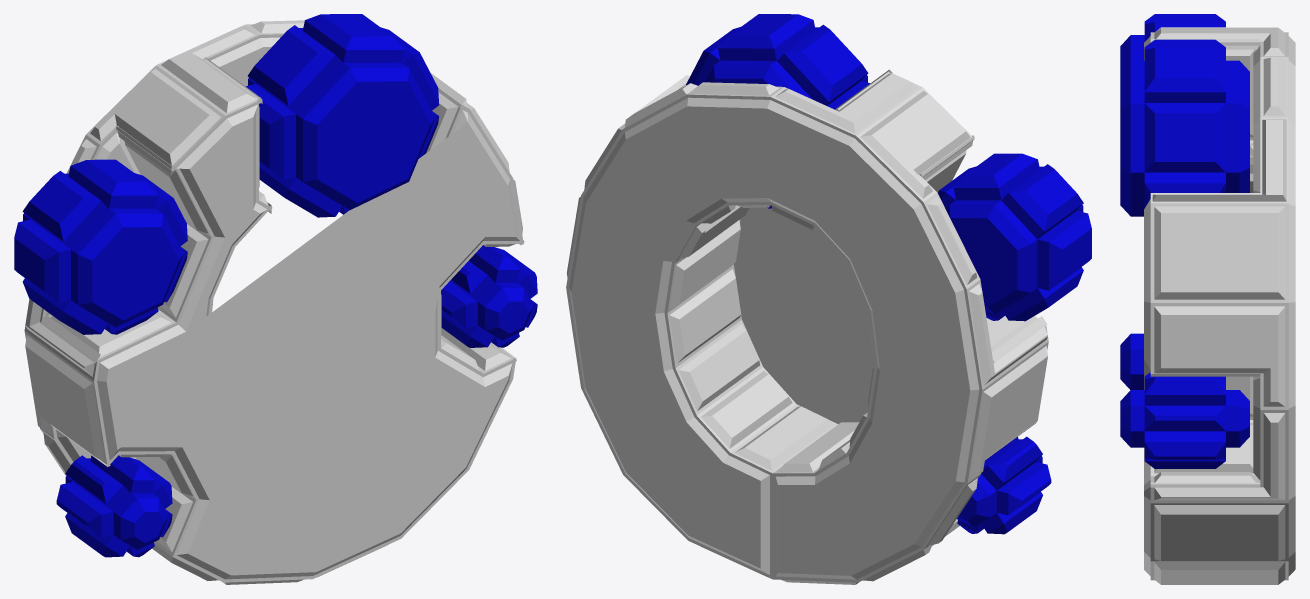
3 views of the same model, side by side, from view 1: azimuth 30°, elevation 25°; view 2: azimuth 150°, elevation 25°; view 3: azimuth 270°, elevation 25° (orthographic). The views are drawn at different scales.
Parts seen in each view (by area): view 1: sphere1; view 2: sphere1; view 3: sphere1.
Part boxes in pixels (x1,y1,x2,y2): sphere1: (14, 14, 537, 584); sphere1: (566, 14, 1091, 584); sphere1: (1120, 14, 1295, 584).
Size of the model in its own units: 0.8181 by 0.851 by 0.2541.
